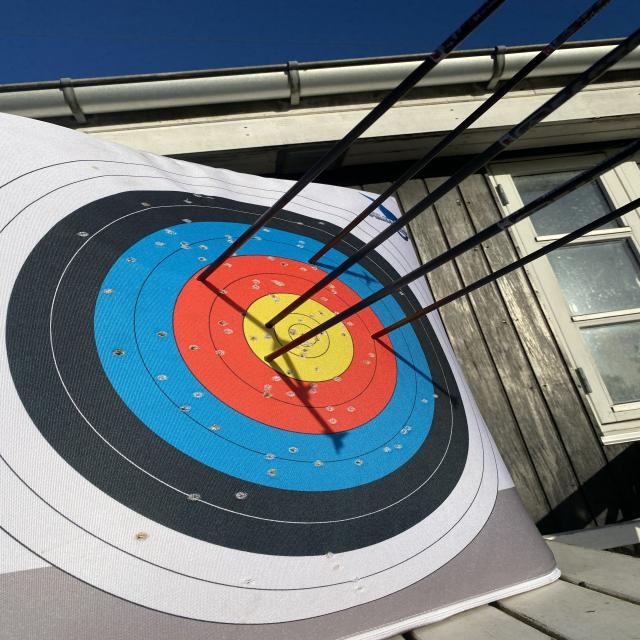Arrow_Blue: (300, 250, 325, 275)
Arrow_Red: (191, 266, 217, 293), (367, 327, 387, 345)
Arrow_Yellow: (260, 314, 288, 342), (259, 348, 283, 376)
